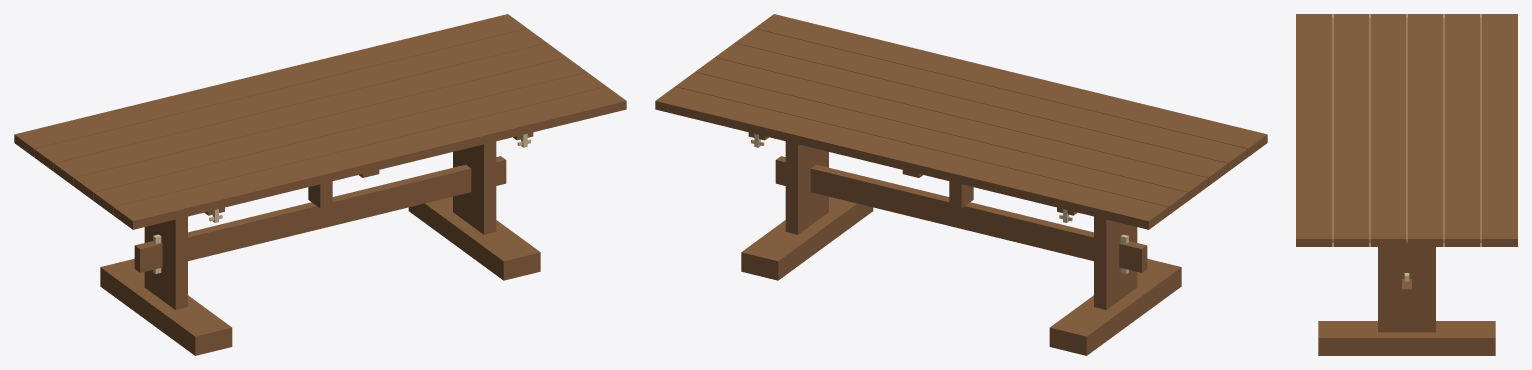
The picture shows the model from 3 angles, left to right: view 1: azimuth 30°, elevation 25°; view 2: azimuth 150°, elevation 25°; view 3: azimuth 270°, elevation 25°; orthographic projection. The views are drawn at different scales.
Parts seen in each view (by area): view 1: tabla_1, tabla_6, tabla_2, tabla_3, tabla_4, tabla_5, travesaño, pie_izq, pie_der, montante_der, montante_izq, puntal_central; view 2: tabla_6, tabla_1, tabla_4, tabla_5, tabla_3, tabla_2, travesaño, pie_izq, pie_der, montante_der, montante_izq, puntal_central; view 3: tabla_1, tabla_2, tabla_3, tabla_4, tabla_5, tabla_6, pie_der, montante_der, lengüeta_1, lengüeta_2, lengüeta_3, lengüeta_4 (+2 smaller).
Part boxes in pixels (left/top/right/bottom): tabla_1: left=113, top=86, right=626, bottom=229; tabla_6: left=14, top=14, right=527, bottom=156; tabla_2: left=93, top=72, right=606, bottom=215; tabla_3: left=74, top=57, right=586, bottom=200; tabla_4: left=54, top=43, right=566, bottom=186; tabla_5: left=34, top=28, right=546, bottom=171; travesaño: left=134, top=156, right=506, bottom=272; pie_izq: left=100, top=258, right=232, bottom=355; pie_der: left=408, top=196, right=540, bottom=280; montante_der: left=453, top=141, right=496, bottom=234; montante_izq: left=144, top=216, right=187, bottom=309; puntal_central: left=308, top=181, right=332, bottom=208; tabla_6: left=655, top=86, right=1168, bottom=229; tabla_1: left=754, top=14, right=1267, bottom=156; tabla_4: left=695, top=57, right=1207, bottom=200; tabla_5: left=675, top=72, right=1188, bottom=215; tabla_3: left=715, top=43, right=1227, bottom=186; tabla_2: left=735, top=28, right=1247, bottom=171; travesaño: left=775, top=156, right=1147, bottom=272; pie_izq: left=1049, top=258, right=1181, bottom=355; pie_der: left=741, top=196, right=873, bottom=280; montante_der: left=785, top=141, right=828, bottom=234; montante_izq: left=1094, top=216, right=1137, bottom=309; puntal_central: left=949, top=181, right=973, bottom=208; tabla_1: left=1296, top=14, right=1332, bottom=246; tabla_2: left=1333, top=14, right=1369, bottom=246; tabla_3: left=1370, top=14, right=1406, bottom=246; tabla_4: left=1407, top=14, right=1443, bottom=246; tabla_5: left=1444, top=14, right=1480, bottom=246; tabla_6: left=1481, top=14, right=1517, bottom=246; pie_der: left=1318, top=321, right=1495, bottom=355; montante_der: left=1378, top=243, right=1435, bottom=332; lengüeta_1: left=1332, top=18, right=1333, bottom=242; lengüeta_2: left=1369, top=18, right=1370, bottom=242; lengüeta_3: left=1406, top=18, right=1407, bottom=242; lengüeta_4: left=1443, top=18, right=1444, bottom=242.
Bounding box in the file's own units: 2.4 × 0.75 × 1.
